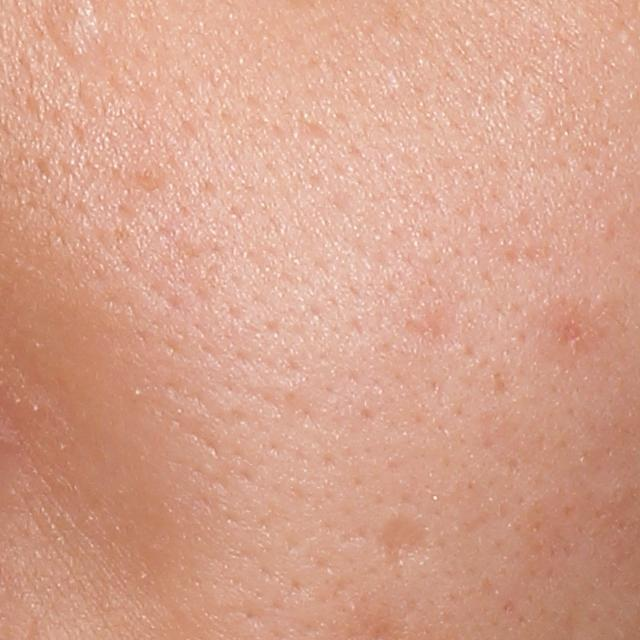atrophic_scar: (377, 508, 436, 574), (297, 116, 337, 144)
